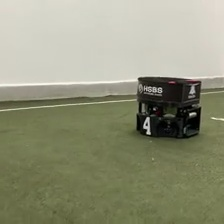robot: (133, 75, 202, 138)
